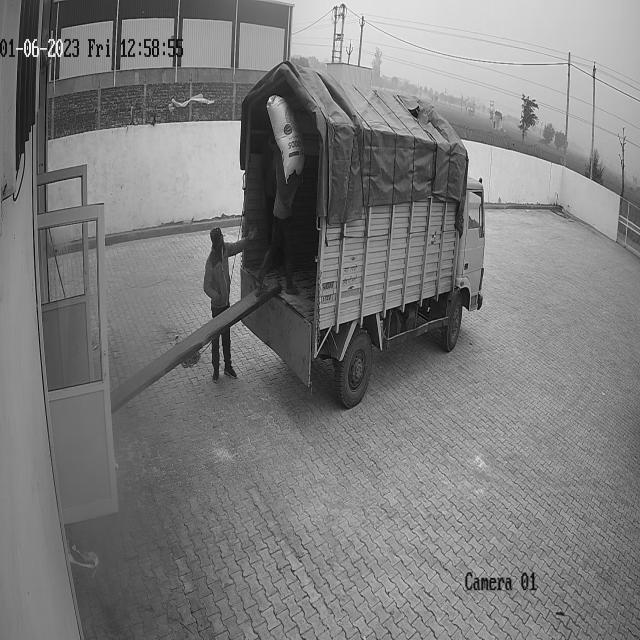sack: (266, 94, 308, 180)
